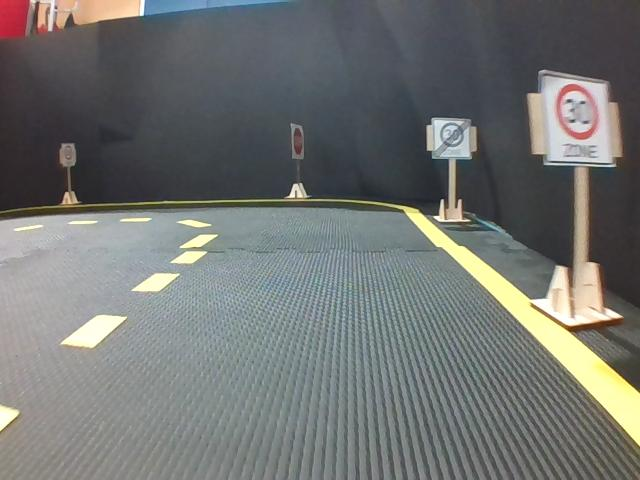30: (542, 70, 614, 167), (61, 144, 77, 167)
no30: (432, 118, 470, 157)
stop: (292, 125, 304, 158)
